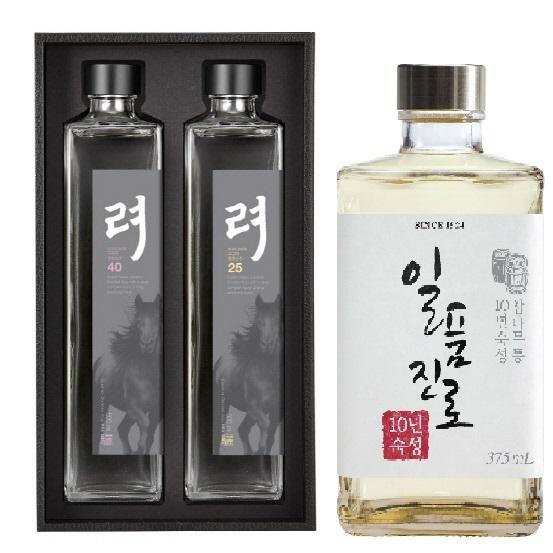soju: (326, 61, 548, 545), (57, 56, 288, 511)
